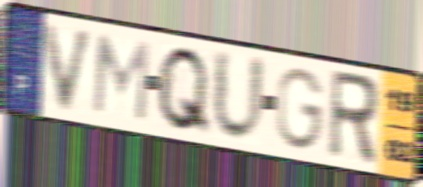G: (275, 65, 328, 154)
M: (90, 31, 152, 126)
Q: (154, 43, 213, 139)
R: (325, 67, 381, 169)
U: (210, 46, 268, 147)
V: (40, 21, 99, 116)
